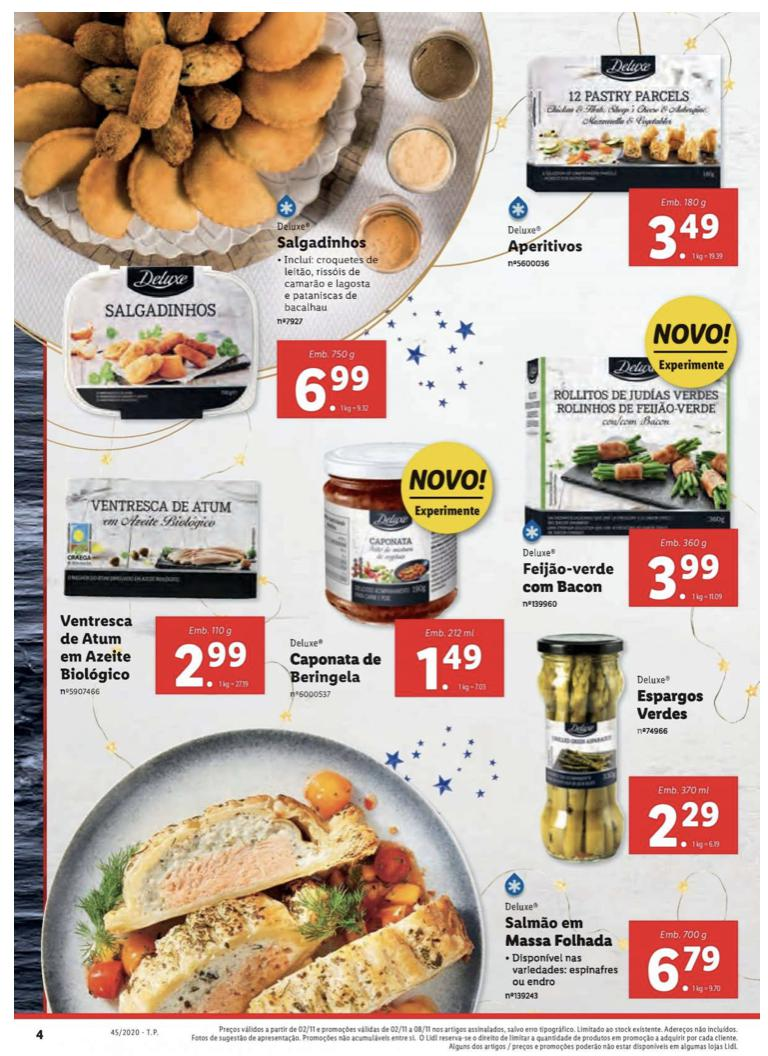name: (55, 608, 134, 686), (497, 913, 618, 950), (278, 648, 385, 688), (518, 555, 618, 595), (632, 686, 706, 727), (274, 229, 374, 254), (507, 238, 586, 254)
price: (631, 187, 736, 267), (630, 533, 738, 608), (631, 940, 738, 1002), (280, 358, 386, 419), (632, 794, 736, 854), (409, 621, 493, 695), (164, 634, 263, 694)
product: (84, 883, 751, 1019), (496, 305, 753, 617), (51, 227, 417, 446), (278, 433, 505, 716), (505, 28, 753, 287), (522, 617, 753, 869), (52, 459, 272, 716)
